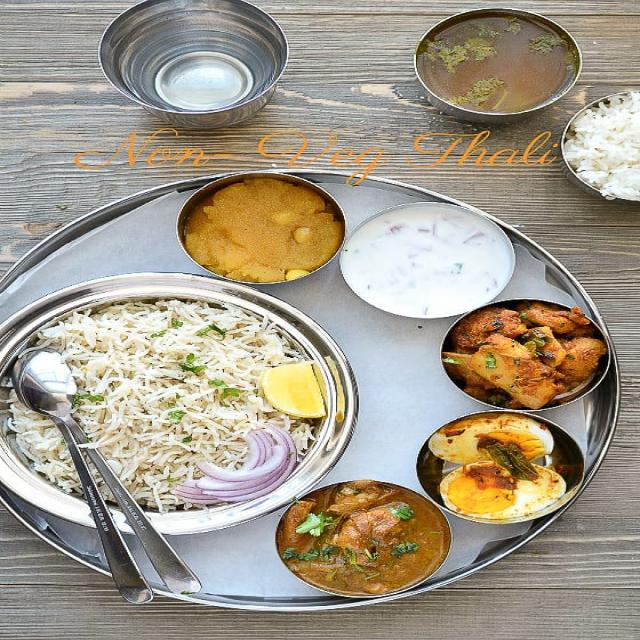non veg meals: (0, 162, 619, 610)
